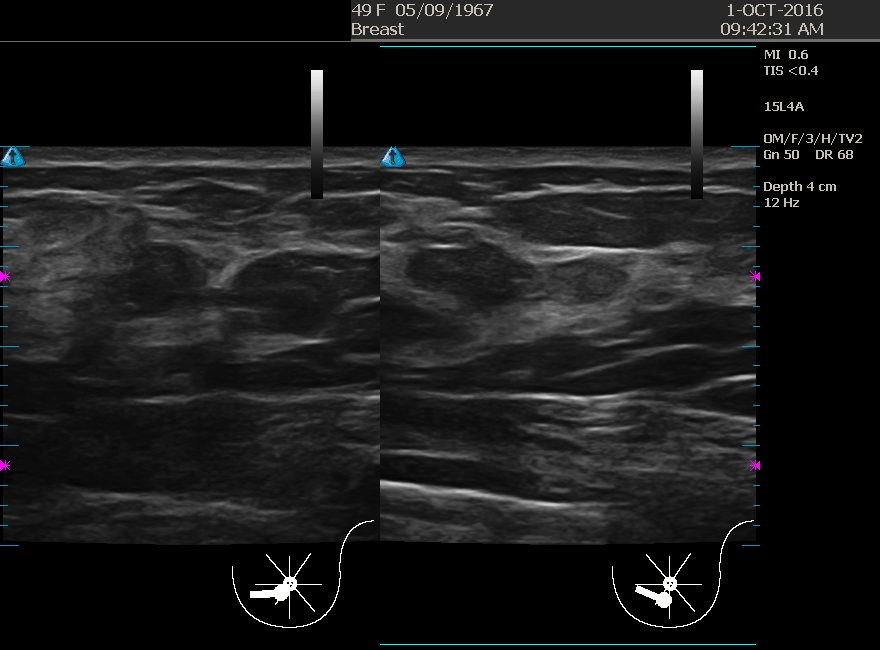Benign: (58, 173, 258, 373), (384, 178, 584, 378)
